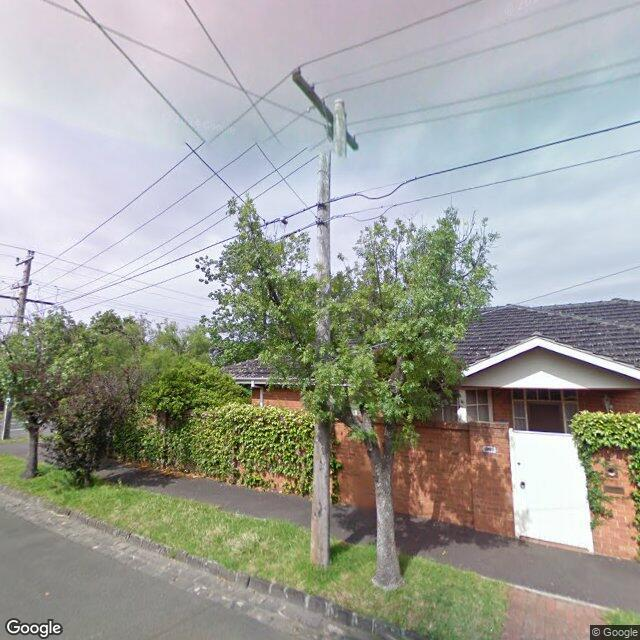HV-transmission: (16, 249, 34, 266)
crossarm: (292, 65, 358, 150), (1, 294, 54, 306), (12, 279, 32, 289), (16, 256, 34, 266)
timber-pole: (309, 98, 348, 567), (2, 255, 32, 440)
